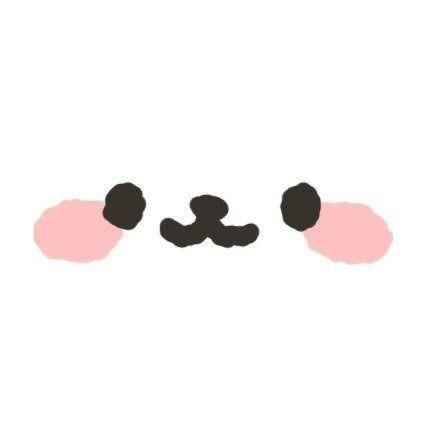non-dog: (0, 1, 429, 429)
